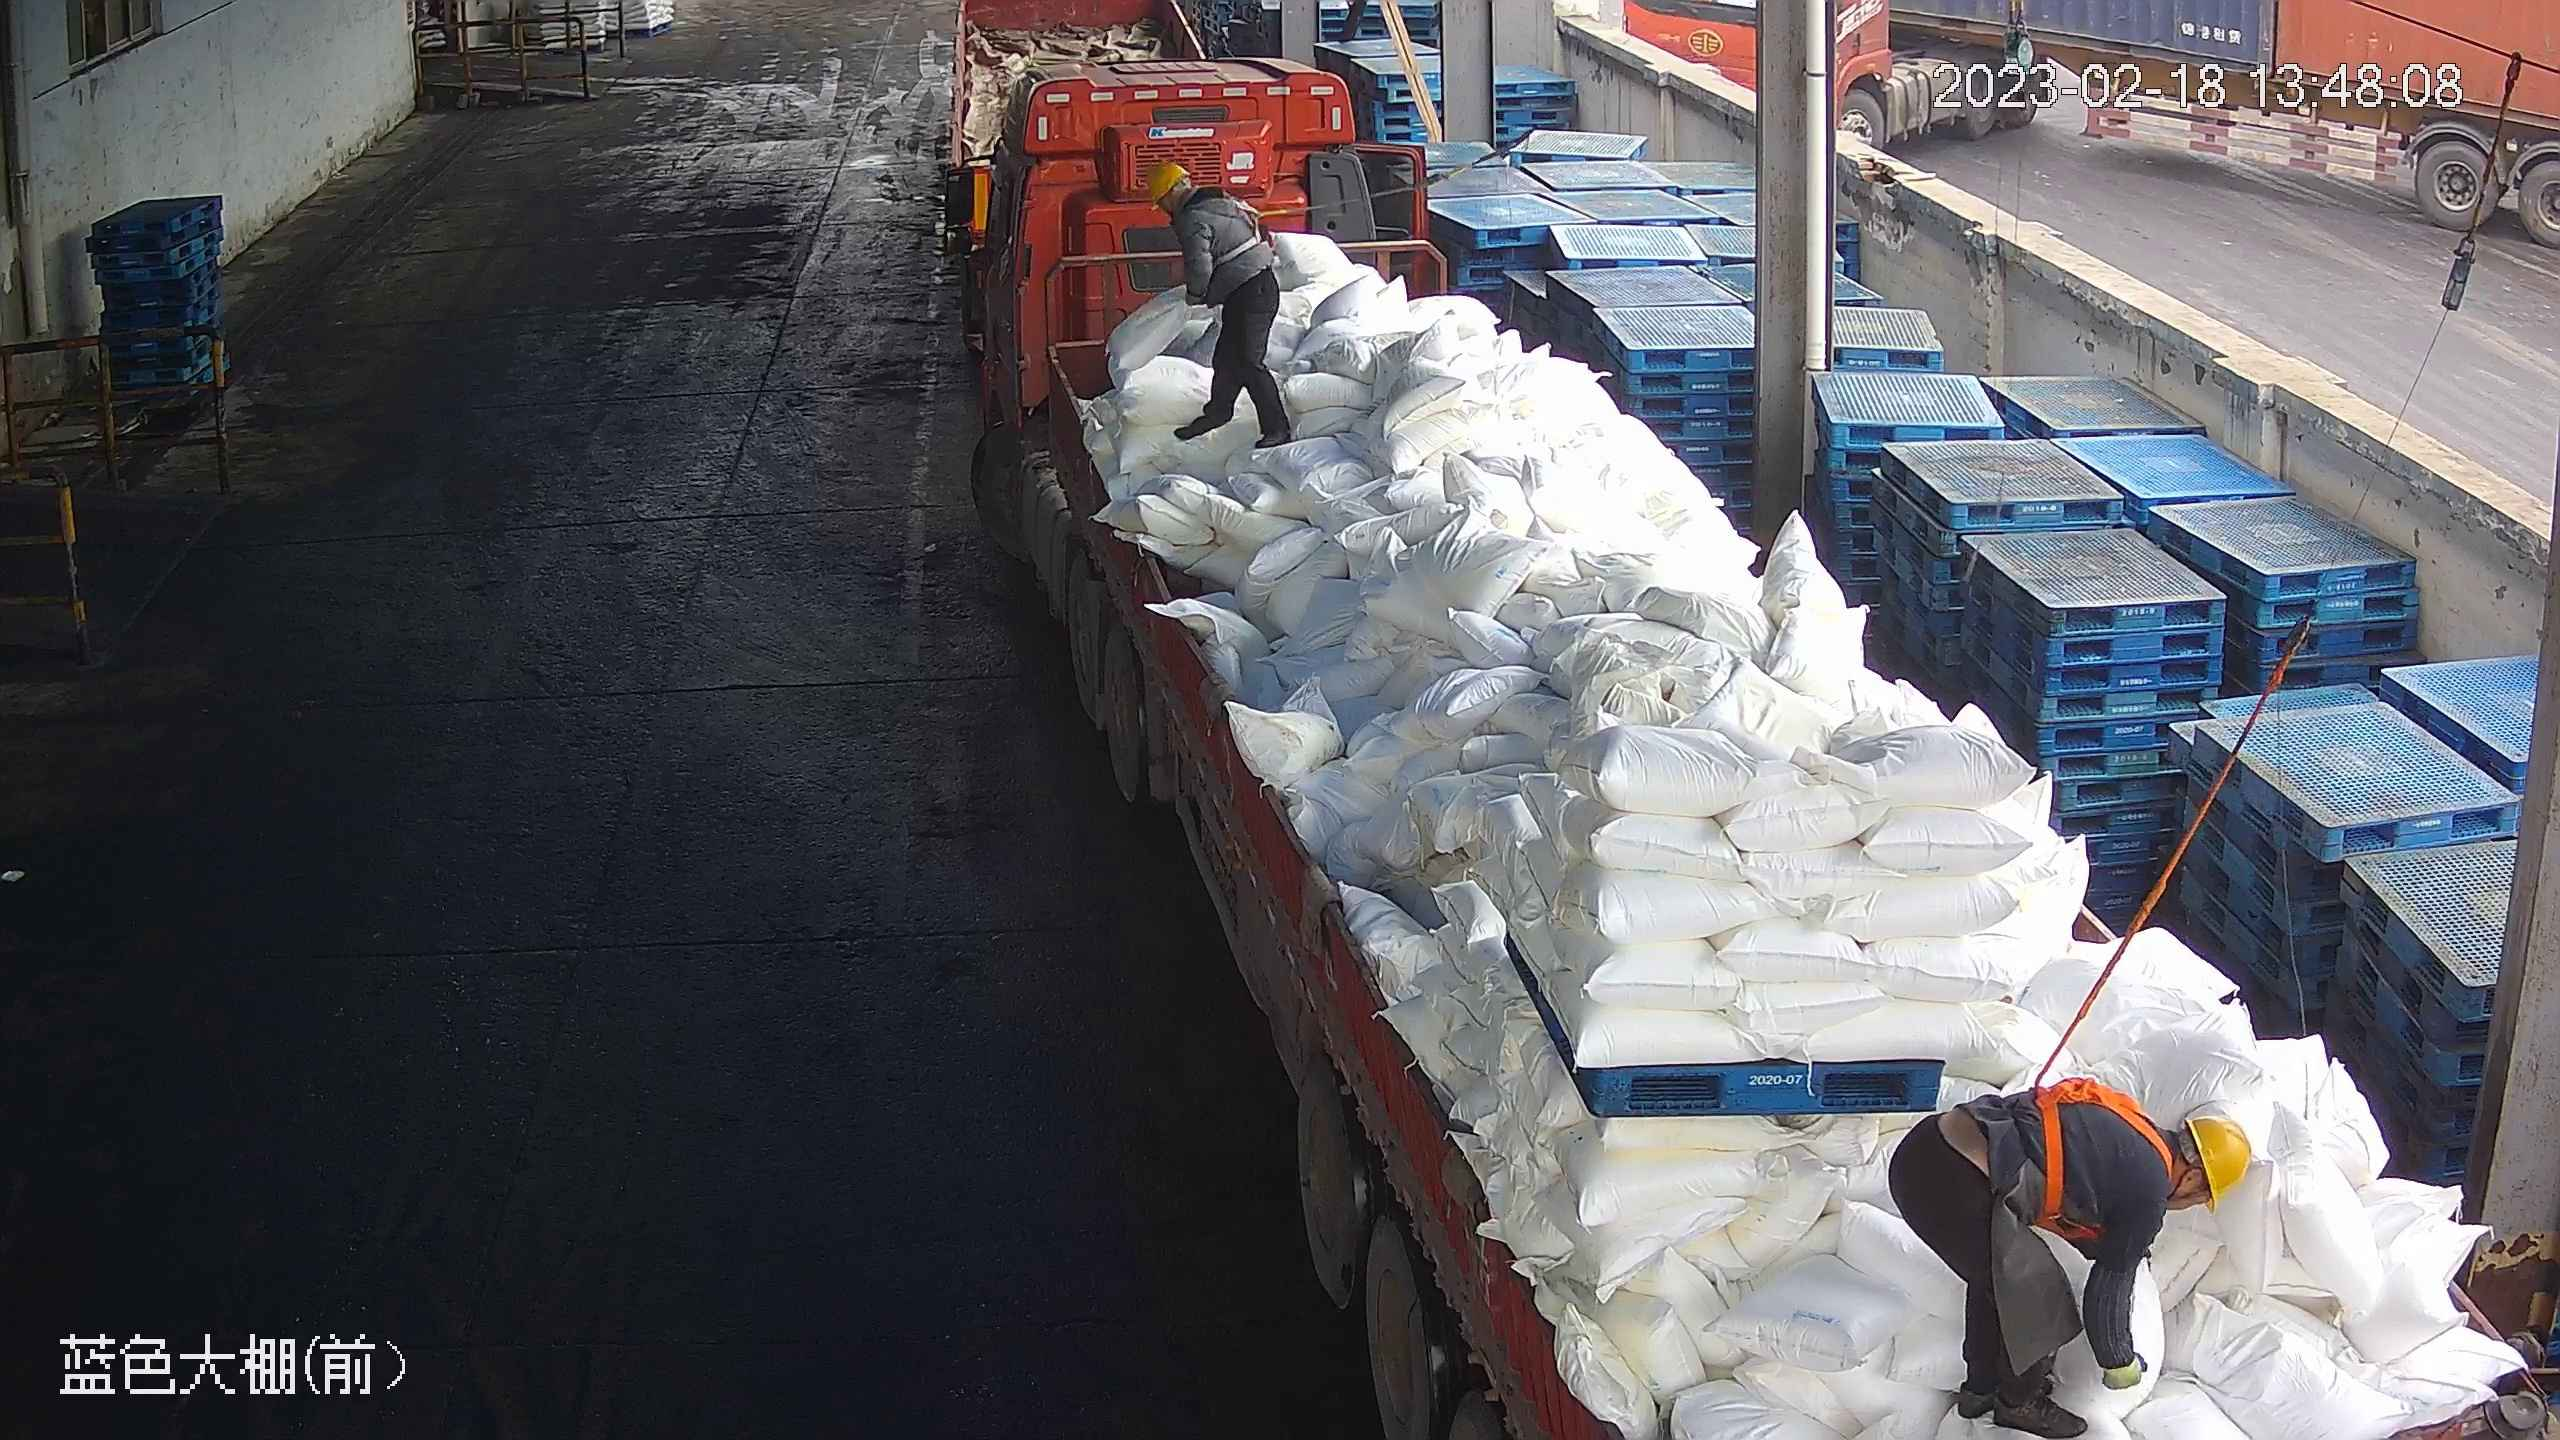belt: (1995, 1055, 2172, 1242), (1195, 184, 1277, 260)
head: (2068, 1082, 2258, 1243), (1141, 160, 1249, 242)
helmet: (2186, 1107, 2255, 1210), (1143, 161, 1189, 204)
people: (1883, 1075, 2264, 1428), (1142, 159, 1295, 445)
truck: (949, 49, 2552, 1440)
